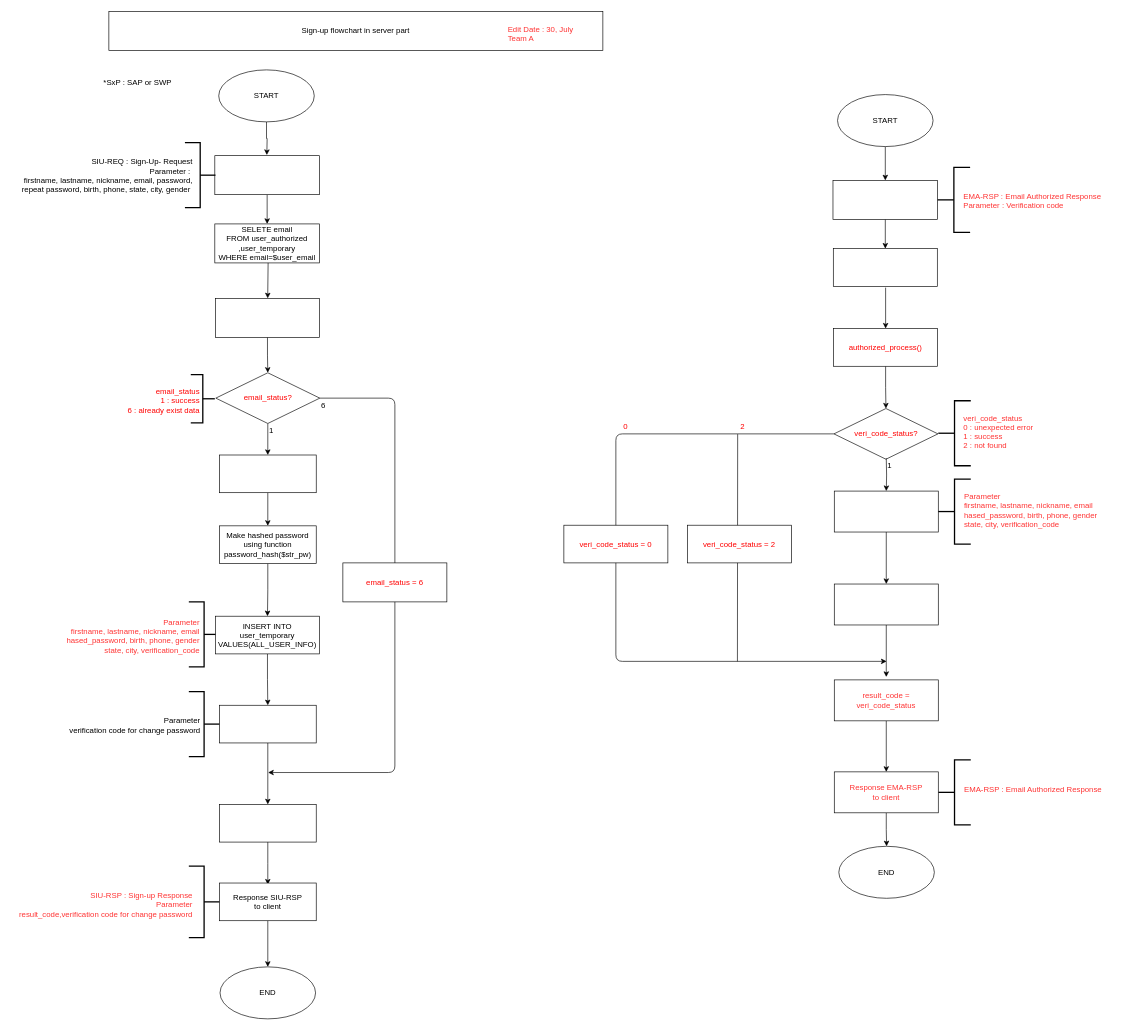
This 1137x1030 diagram has some shape labels left out. Each missing label, with the centre of its shape:
"DELETE FROM user_temporary WHERE usn = $usn" belongs at point 886,604.
"INSERT INTO user_authorized VALUES(ALL_USER_INFO)" belongs at point 886,511.
"Make verification_code using function password_hash(date())" belongs at point 267,473.
"Receive *SxP : SIU-REQ from client" belongs at point 266,175.
"Receive SxP : EMA-REQ from client" belongs at point 885,199.
"result_code = email_status" belongs at point 267,823.
"SELETE usn FROM user_temporary WHERE" belongs at point 885,267.
"Send email to user" belongs at point 267,724.
"sign_up_process()" belongs at point 267,317.
